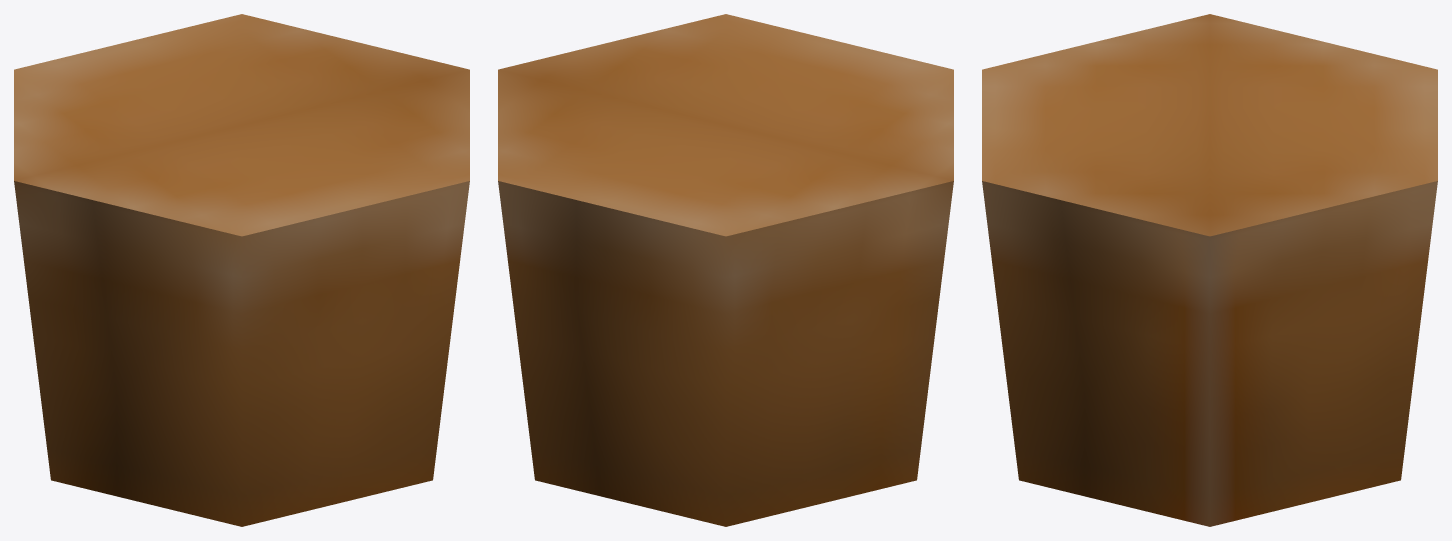
Rendered from liquid_medicine_4.FBX.
3 views of the same model, side by side, from view 1: azimuth 30°, elevation 25°; view 2: azimuth 150°, elevation 25°; view 3: azimuth 270°, elevation 25° (orthographic).
Parts seen in each view (by area): view 1: liquid_medicine_4; view 2: liquid_medicine_4; view 3: liquid_medicine_4.
Part boxes in pixels (x1=…): liquid_medicine_4: x1=14, y1=14, x2=469, y2=526; liquid_medicine_4: x1=498, y1=14, x2=953, y2=526; liquid_medicine_4: x1=982, y1=14, x2=1437, y2=526.
Bounding box in the file's own units: 2.11 × 1.36 × 1.82.
